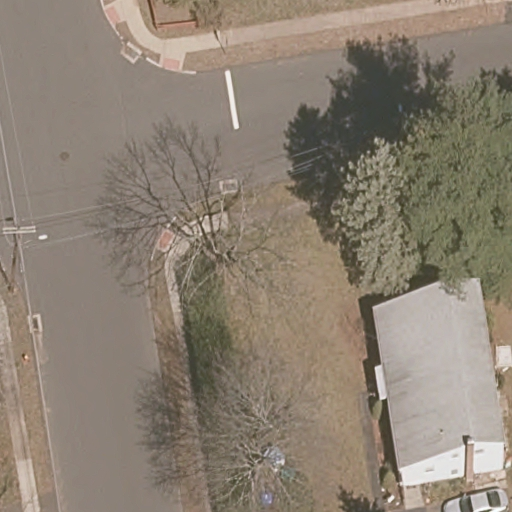DT: (1, 223, 36, 295)
